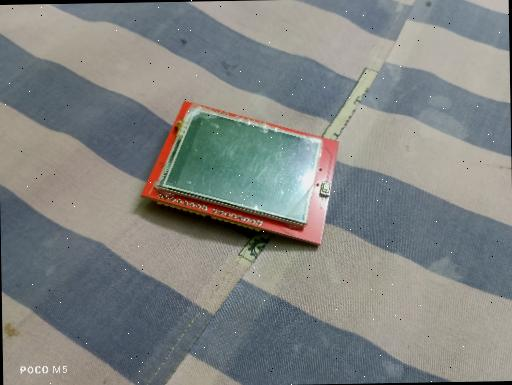Display: (137, 95, 342, 252)
